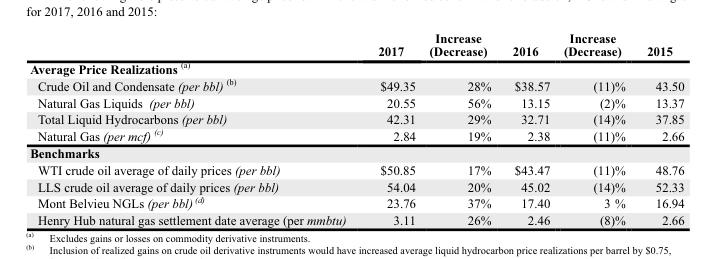table: (29, 28, 683, 228)
table column: (29, 28, 361, 228), (421, 28, 501, 228), (556, 28, 635, 228), (361, 28, 421, 228), (501, 28, 556, 228), (635, 28, 683, 228)
table column header: (29, 28, 683, 58)
table projected row header: (29, 58, 683, 76), (29, 143, 683, 160)
table row: (29, 28, 683, 58), (29, 58, 683, 76), (29, 193, 683, 211), (29, 76, 683, 93), (29, 93, 683, 110), (29, 126, 683, 143), (29, 143, 683, 160), (29, 160, 683, 177), (29, 211, 683, 228), (29, 110, 683, 126), (29, 177, 683, 193)
